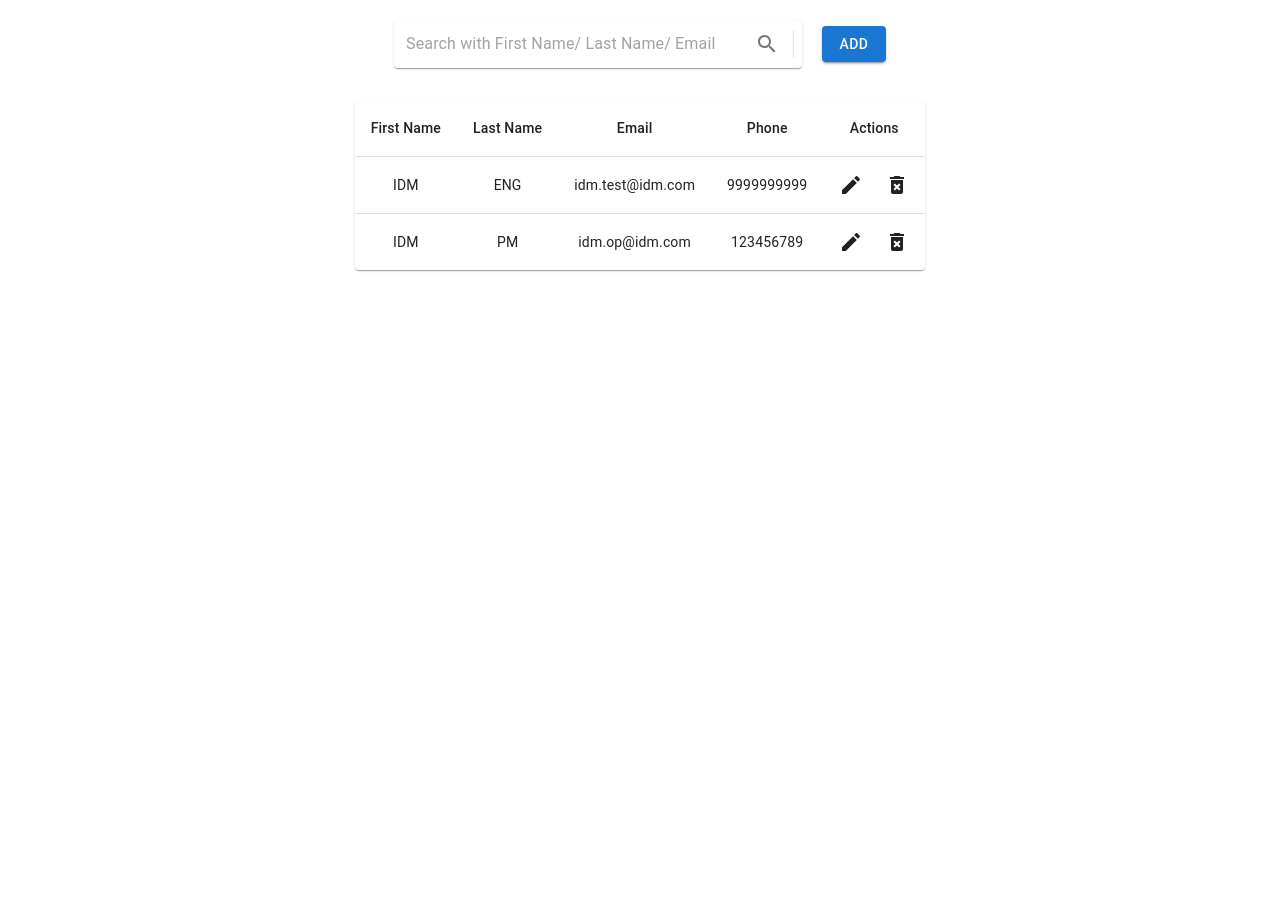
Home page should render › it should open add reservation modal on add button press
Click the button "ADD" at (854, 44), box x1=822 y1=26 x2=886 y2=62
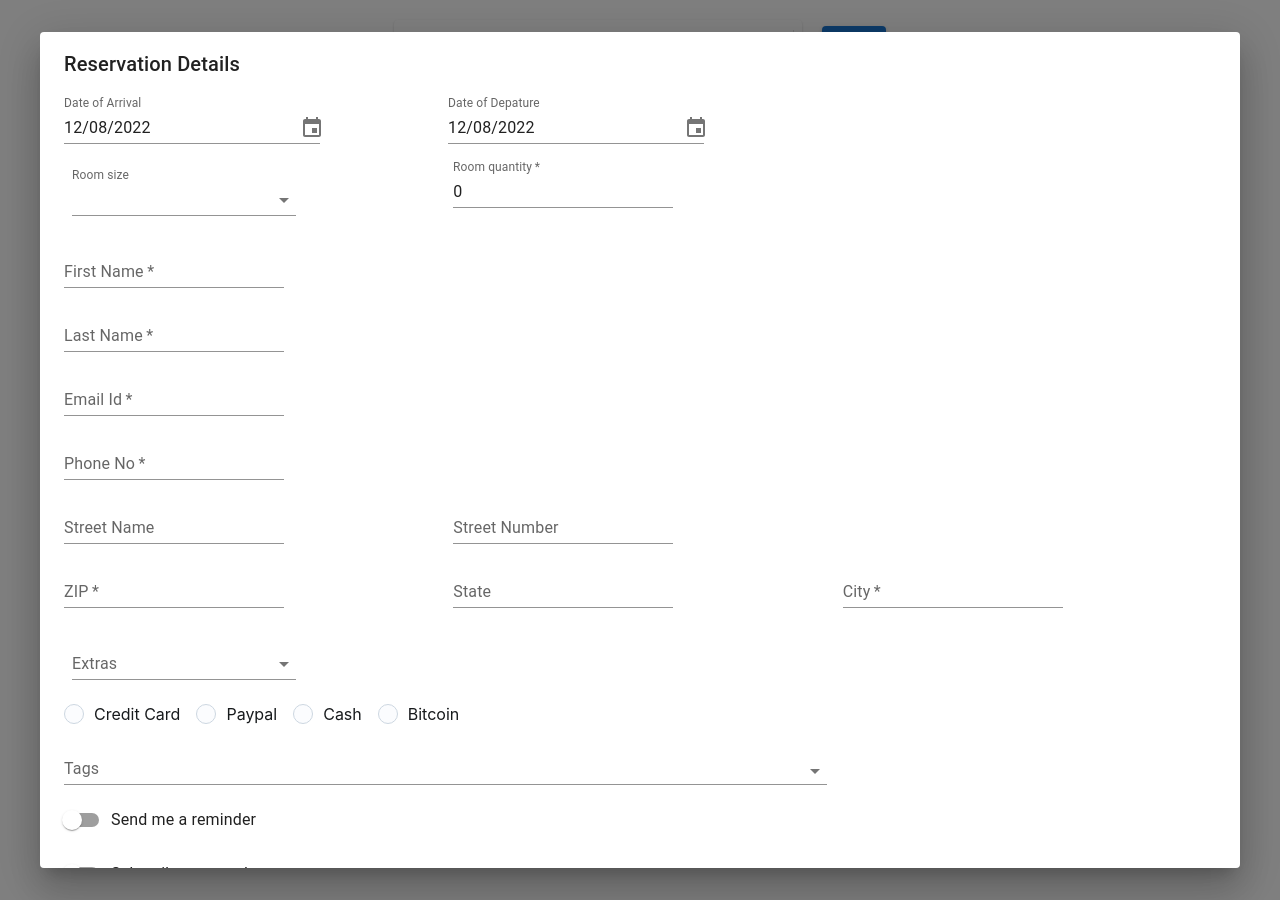
Expected: the heading "Reservation Details" is shown, x1=64 y1=52 x2=240 y2=76
